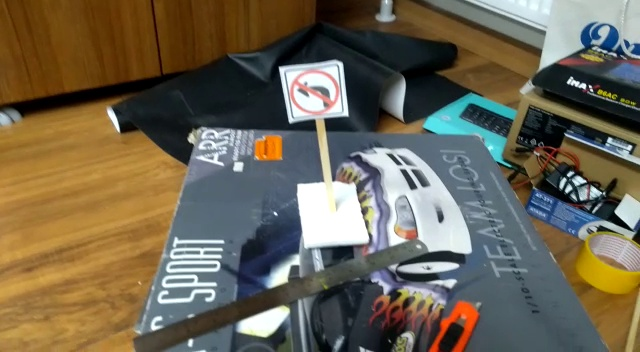sola_donulmez: (288, 66, 338, 120)
